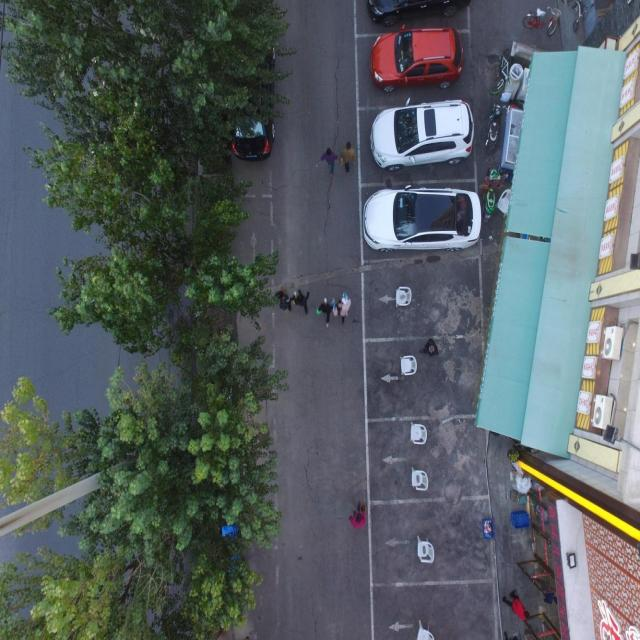p3rson: (503, 587, 533, 625), (529, 572, 560, 605), (339, 138, 357, 176), (346, 500, 367, 531), (320, 144, 338, 177), (332, 294, 351, 324), (318, 296, 334, 330), (292, 286, 310, 314), (274, 287, 294, 311), (418, 336, 439, 356)
